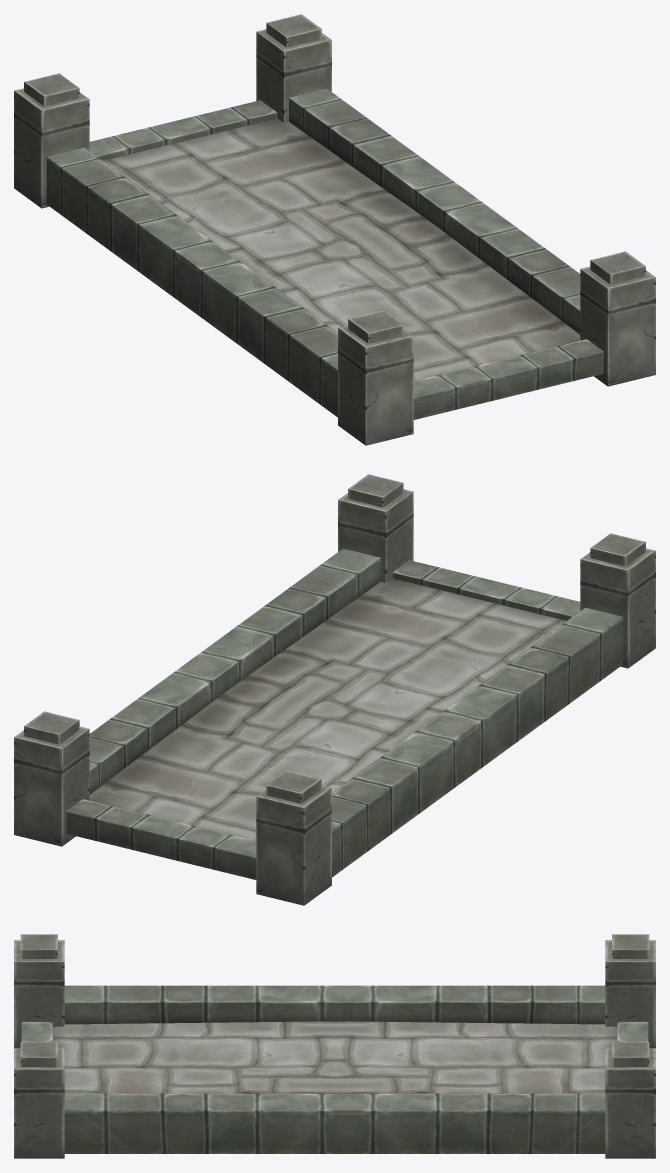
File: bridge_04b.fbx
3 renders of one model, top to bottom at view 1: azimuth 30°, elevation 25°; view 2: azimuth 150°, elevation 25°; view 3: azimuth 270°, elevation 25°, orthographic. The views are drawn at different scales.
Parts seen in each view (by area): view 1: bridge_04bMesh; view 2: bridge_04bMesh; view 3: bridge_04bMesh.
Part boxes in pixels (x1,y1,x2,y2): bridge_04bMesh: (14,14,655,445); bridge_04bMesh: (14,474,655,905); bridge_04bMesh: (14,934,655,1158).
Bounding box in the file's own units: 2.88 × 1.02 × 6.04.
